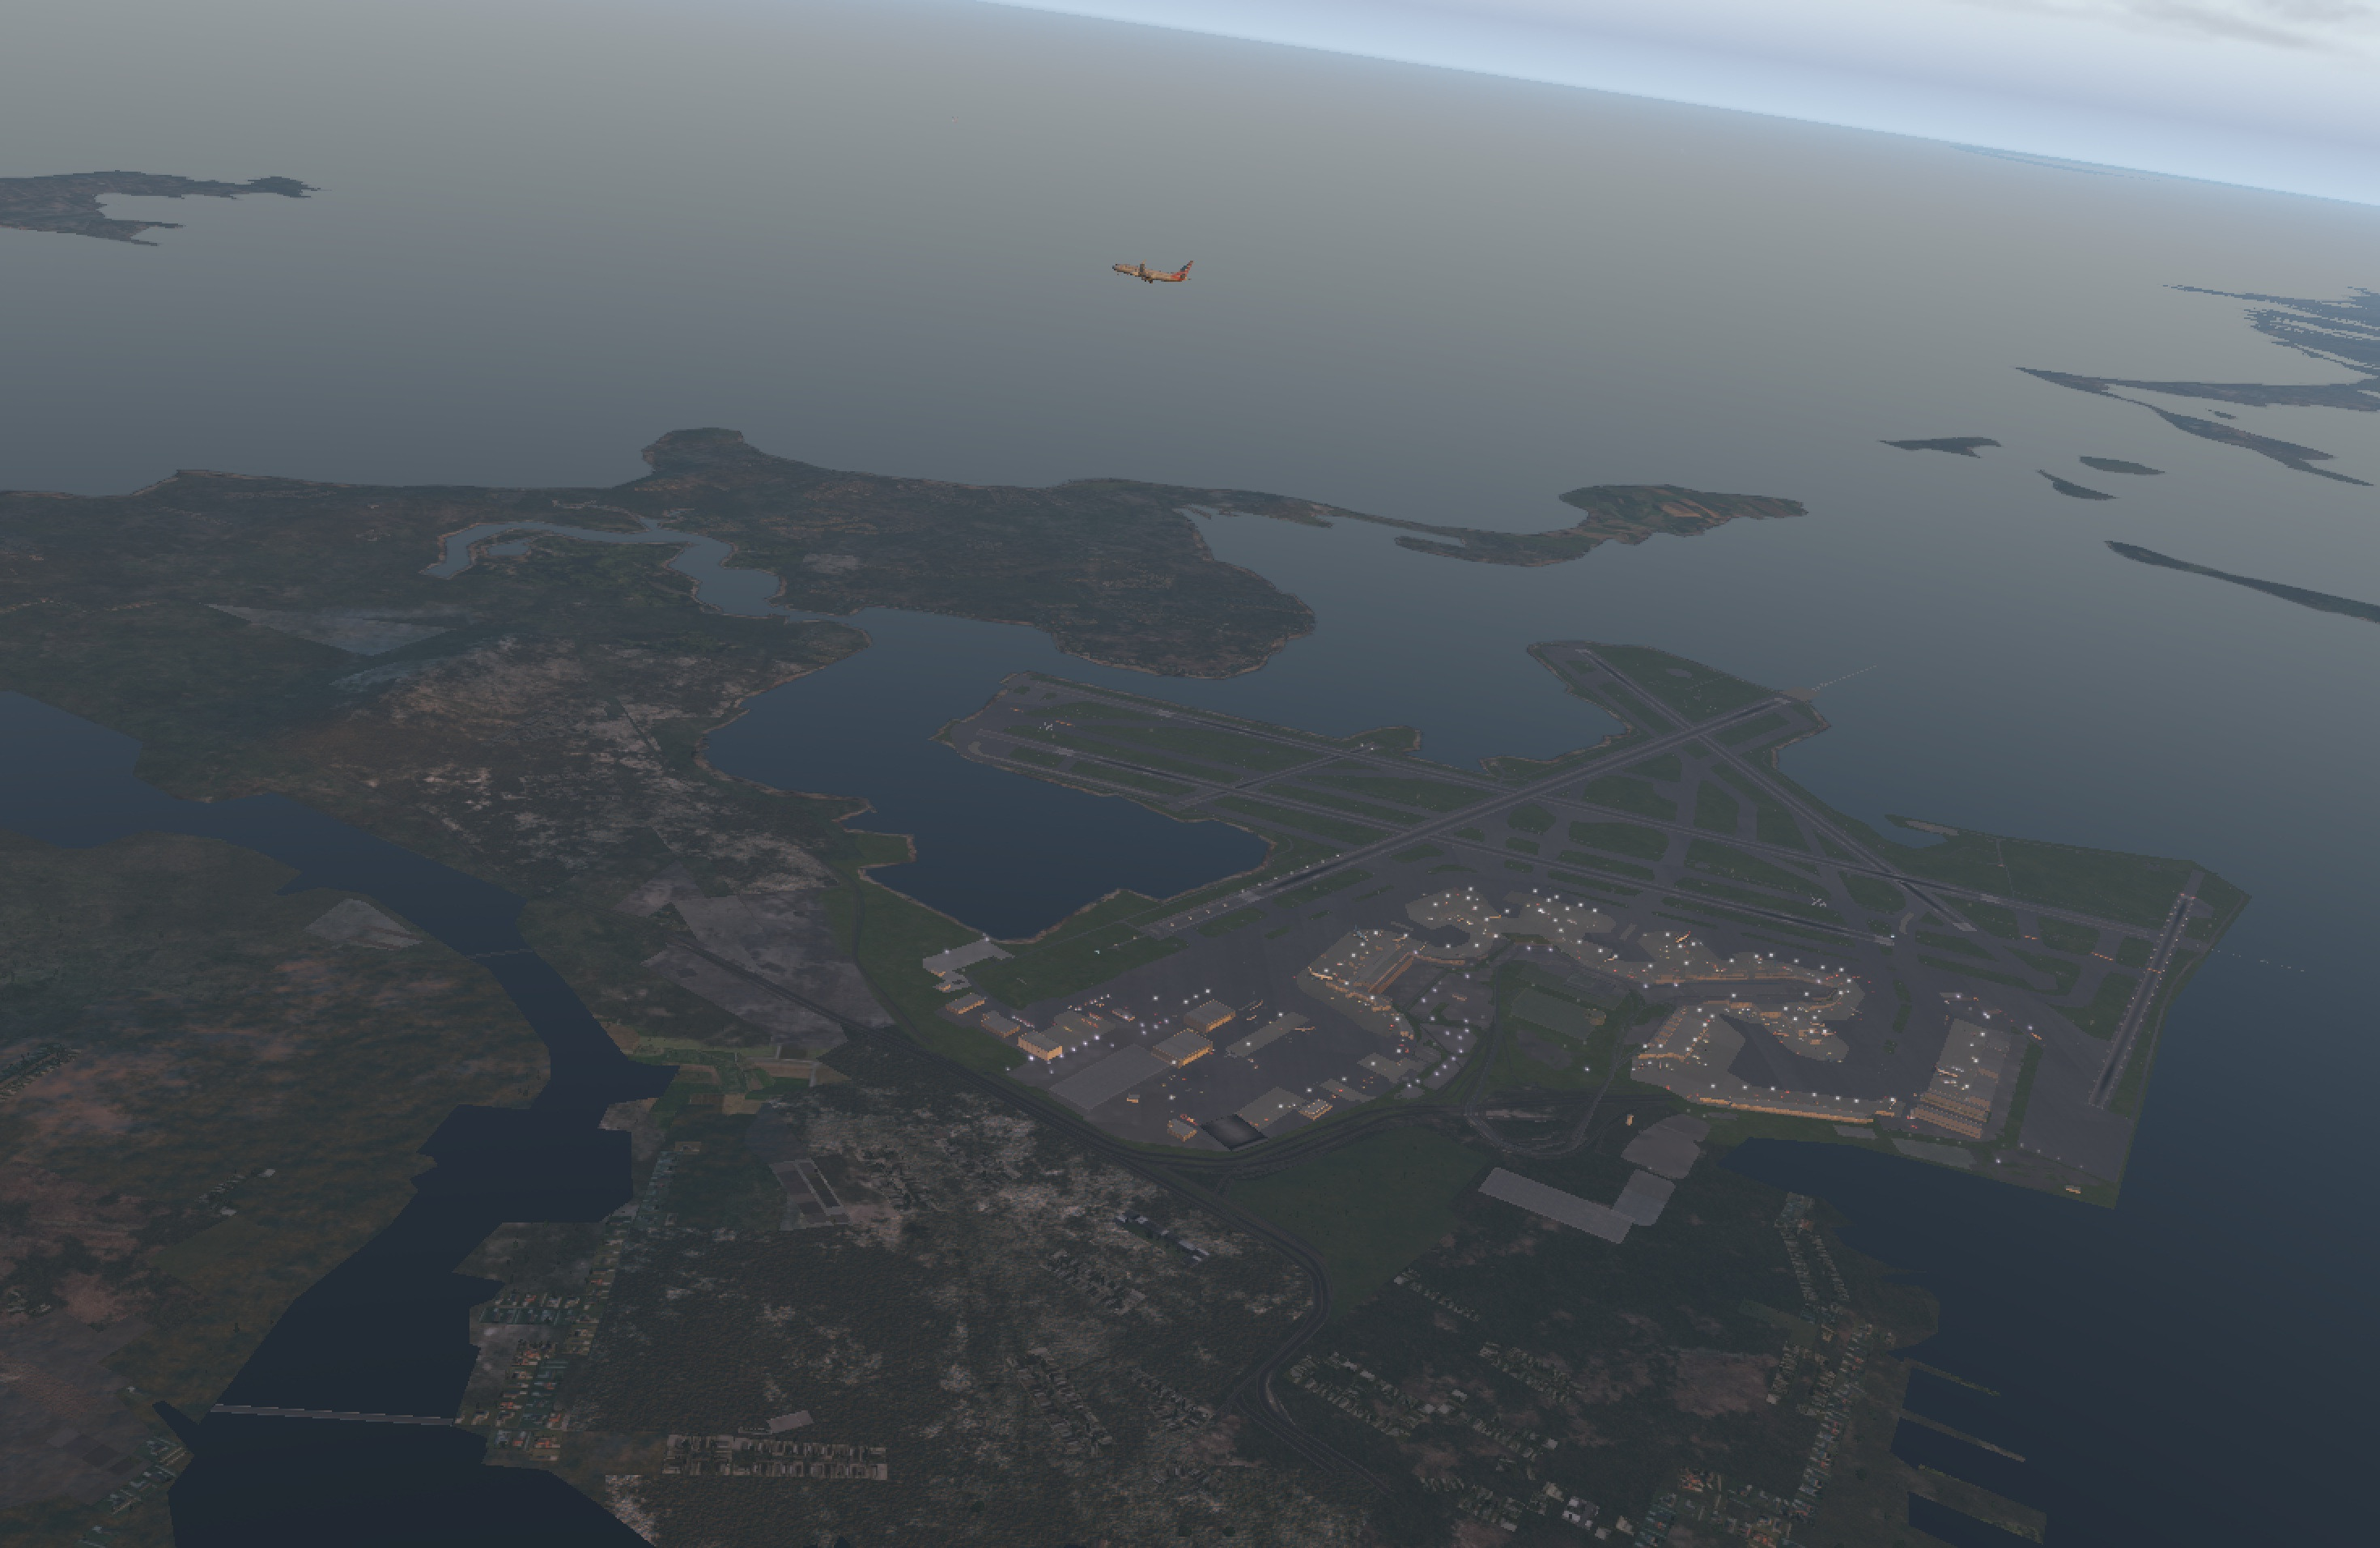aircraft: (1103, 259, 1190, 292)
